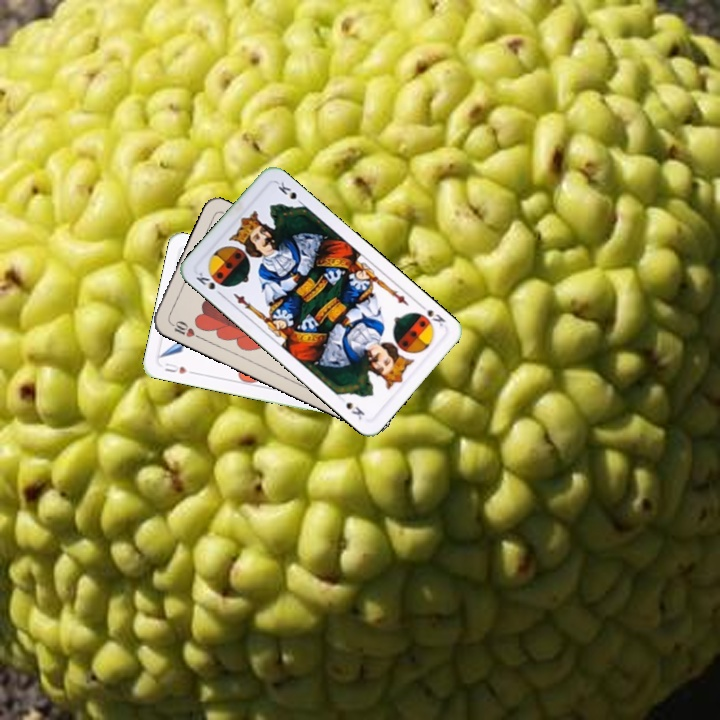H10: (166, 317, 204, 342)
HU: (161, 359, 197, 377)
SK: (192, 268, 226, 299), (415, 300, 448, 329)
